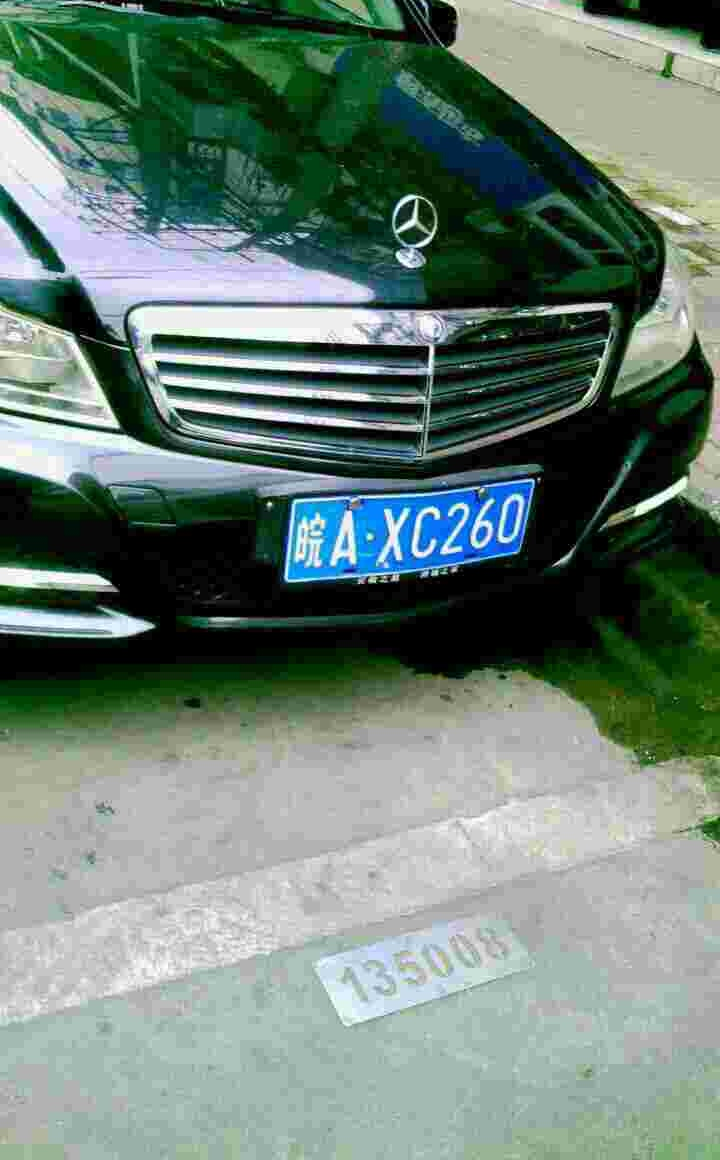license_plate: (289, 474, 541, 580)
